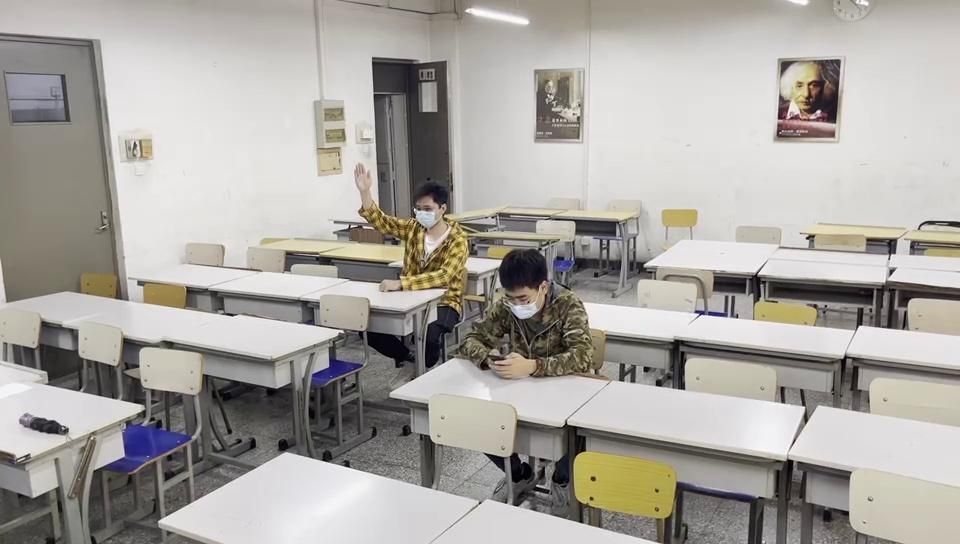phone: (469, 251, 591, 377)
study: (354, 162, 467, 290)
